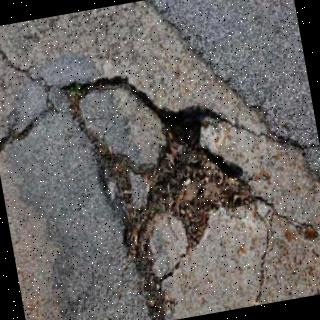pothole: (62, 76, 255, 320)
